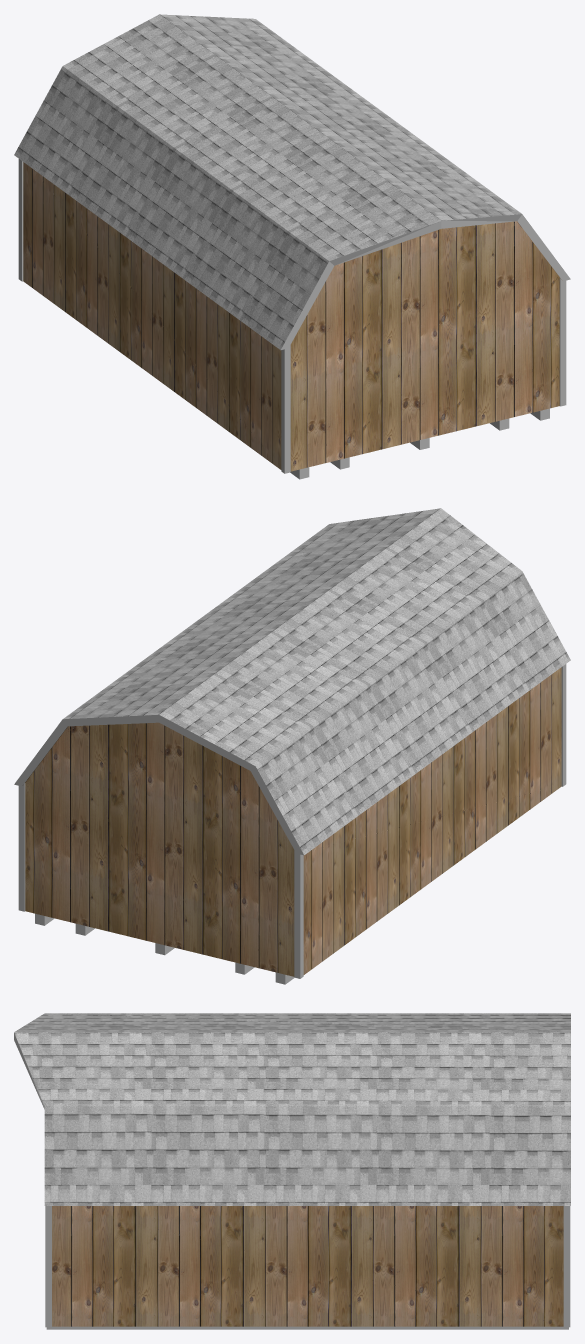
The model's file is Mini Barn Sheds_10x16.obj.
3 renders of one model, top to bottom at view 1: azimuth 30°, elevation 25°; view 2: azimuth 150°, elevation 25°; view 3: azimuth 270°, elevation 25°, orthographic.
Visible parts, largest first — view 1: Roof, Shed, Trim, Sides, Floor; view 2: Roof, Shed, Trim, Sides, Floor; view 3: Roof, Shed, Floor, Trim.
Boxes of the visible parts, x1,y1,x2,y2 form: Roof: [14, 14, 521, 349]; Shed: [23, 162, 561, 471]; Trim: [18, 159, 566, 473]; Sides: [281, 214, 570, 349]; Floor: [290, 408, 549, 479]; Roof: [63, 508, 570, 854]; Shed: [25, 667, 561, 976]; Trim: [18, 664, 566, 978]; Sides: [14, 715, 303, 855]; Floor: [35, 913, 294, 984]; Roof: [14, 1013, 570, 1205]; Shed: [52, 1206, 563, 1326]; Floor: [46, 1326, 568, 1329]; Trim: [45, 1206, 570, 1327].
Bounding box in the file's own units: 3.09 × 2.44 × 5.2.
